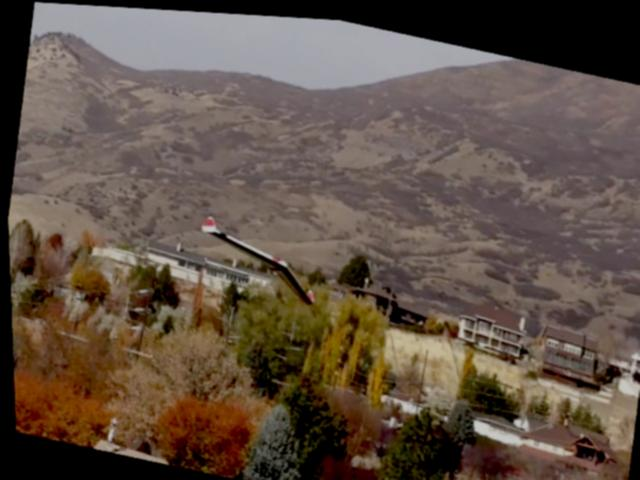flying wing: (188, 209, 326, 306)
